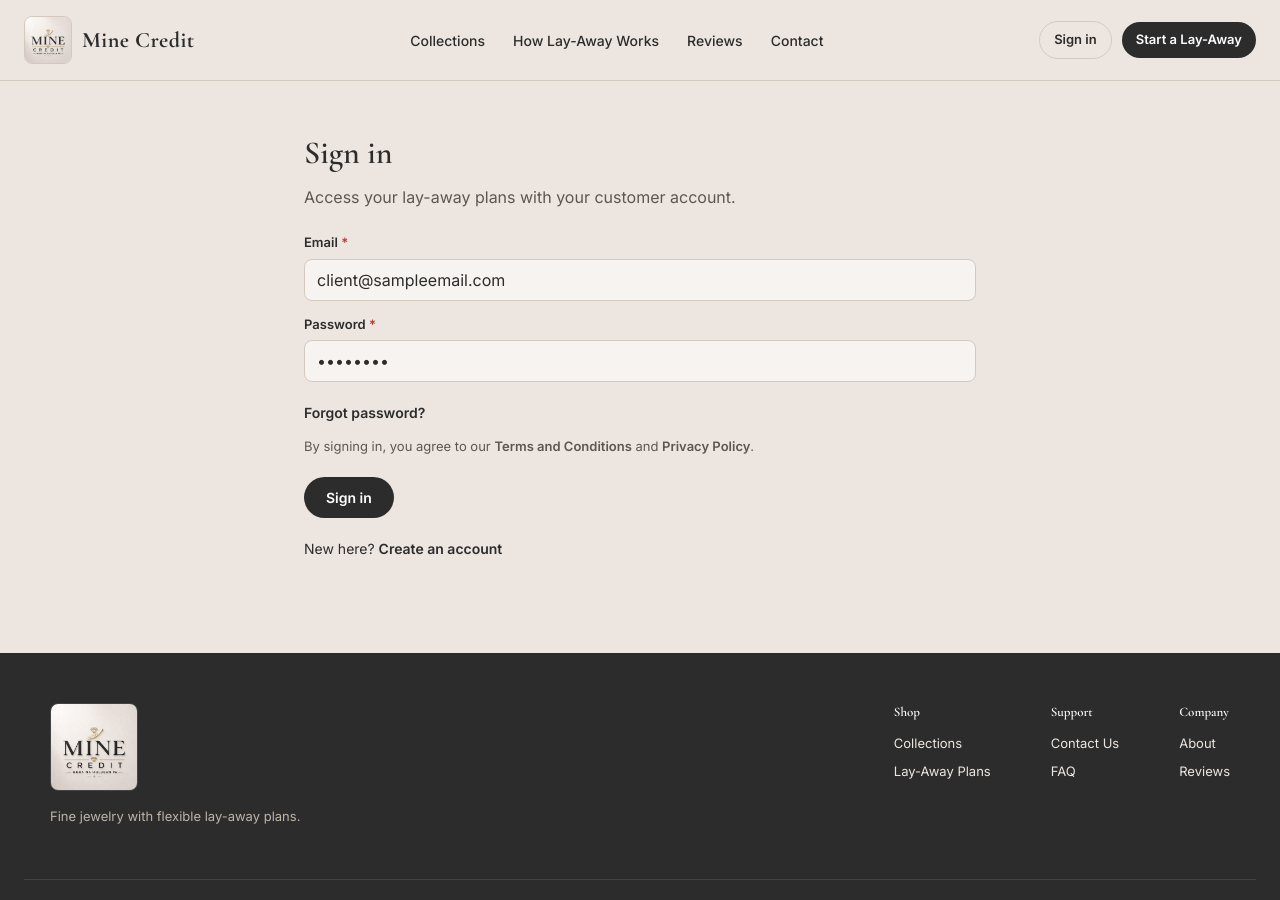
it: Login › signs in the seeded customer
The width and height of the screenshot is (1280, 900).
What coordinates should you click on to do the following:
click the button "Sign in"
I would click on:
 (349, 497)
Its box is x1=304 y1=476 x2=394 y2=518.
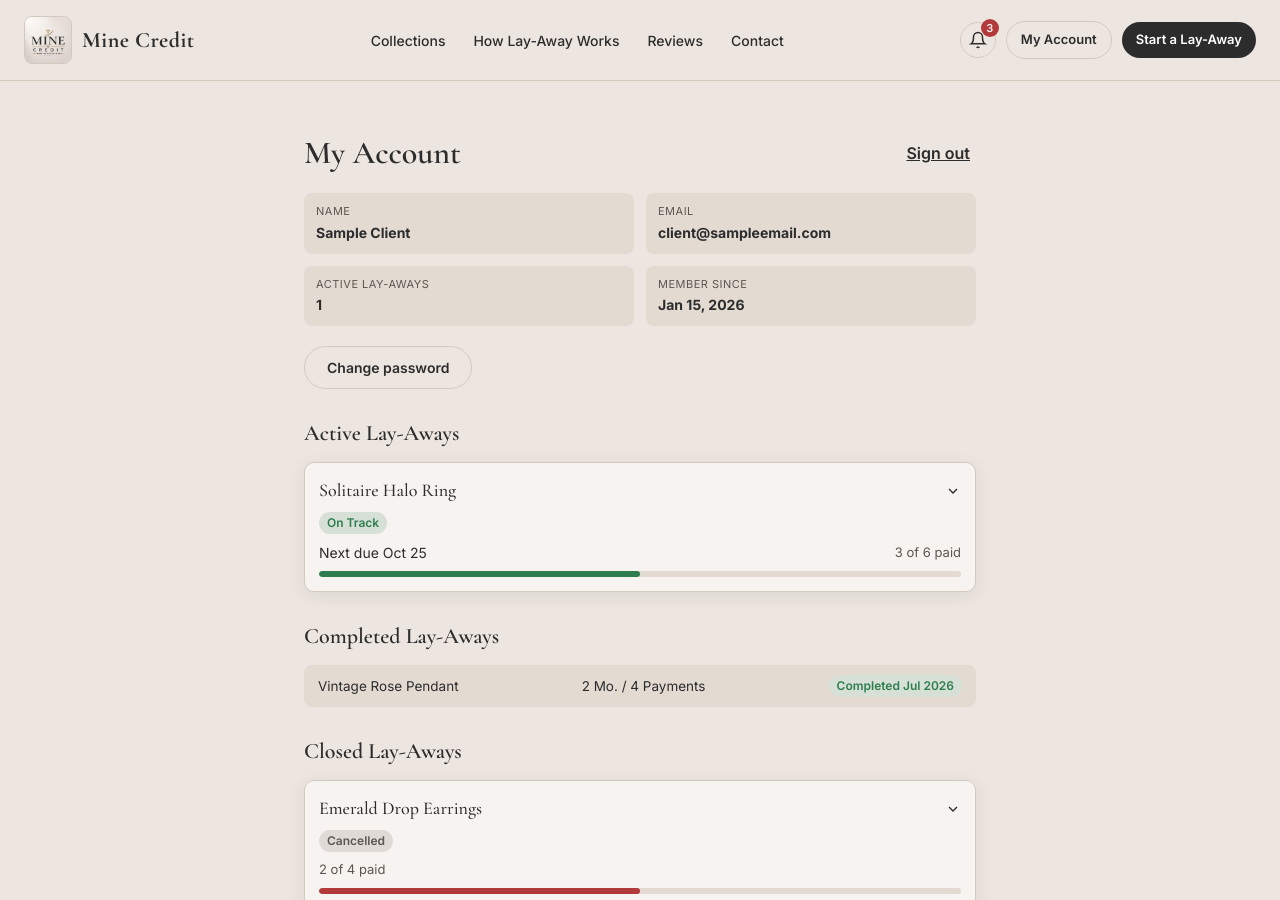
Expected: the heading "My Account" is shown, x1=304 y1=129 x2=461 y2=177
Expected: the text "client@sampleemail.com" is shown, x1=658 y1=224 x2=831 y2=240
